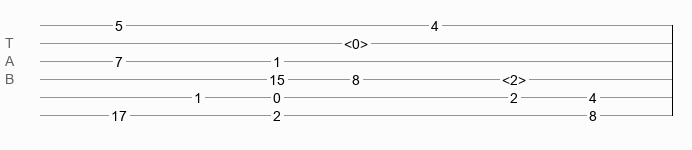0: (273, 90, 281, 100)
1: (194, 90, 202, 100), (273, 54, 281, 64)
15: (269, 72, 285, 82)
17: (111, 108, 127, 118)
2: (273, 108, 281, 118), (510, 90, 518, 100)
4: (431, 18, 439, 28), (589, 90, 597, 100)
5: (115, 18, 123, 28)
7: (115, 54, 123, 64)
8: (352, 72, 360, 82), (589, 108, 597, 118)
harmonic: (344, 36, 368, 46), (502, 72, 526, 82)
